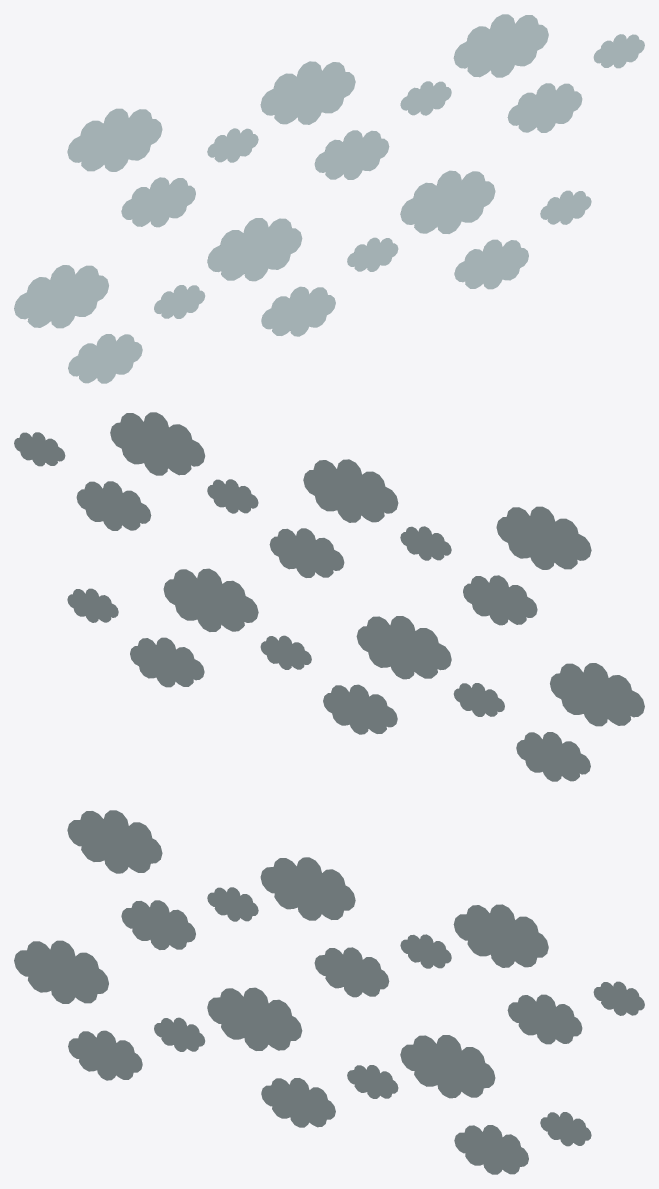
The model's file is 구름스티커.fbx.
3 renders of one model, top to bottom at view 1: azimuth 30°, elevation 25°; view 2: azimuth 150°, elevation 25°; view 3: azimuth 330°, elevation 25°, orthographic.
Visible parts, largest first — view 1: Cylinder007; view 2: Cylinder007; view 3: Cylinder007.
Part boxes in pixels (x1=…): Cylinder007: x1=14, y1=14, x2=644, y2=383; Cylinder007: x1=14, y1=412, x2=644, y2=781; Cylinder007: x1=14, y1=810, x2=644, y2=1174.
Size of the model in its own units: 49.48 by 20.44 by 0.01.
